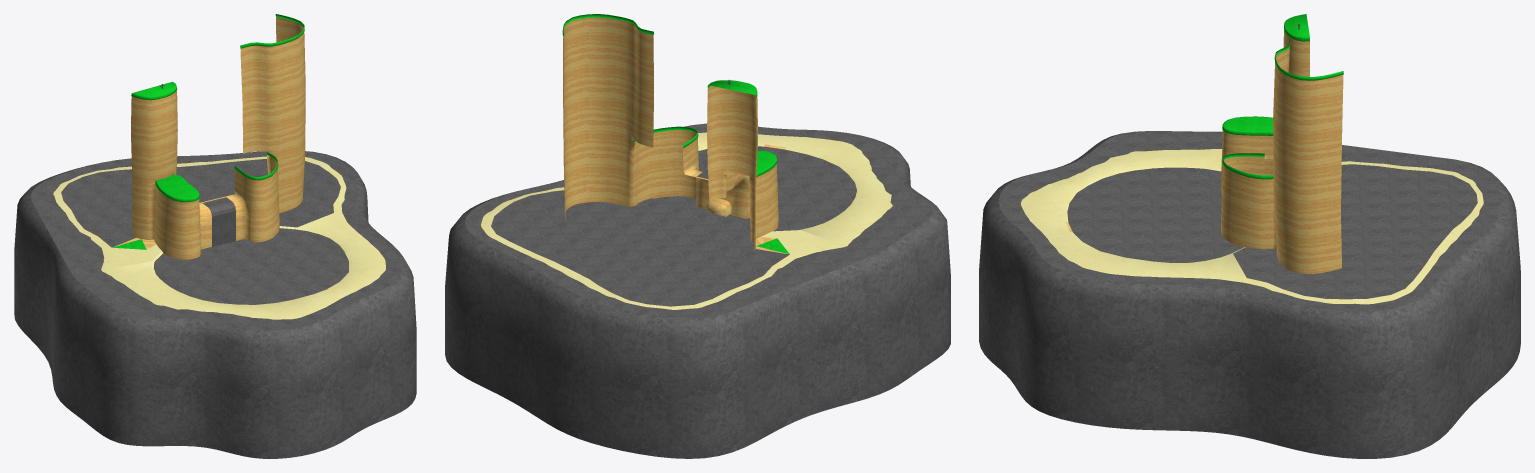
Rendered from MainBeachTest.fbx.
3 renders of one model, left to right at view 1: azimuth 30°, elevation 25°; view 2: azimuth 150°, elevation 25°; view 3: azimuth 270°, elevation 25°, orthographic. The views are drawn at different scales.
Visible parts, largest first — view 1: Plane.012; view 2: Plane.012; view 3: Plane.012.
Part boxes in pixels (x1,y1,x2,y2): Plane.012: [14, 14, 416, 458]; Plane.012: [445, 14, 950, 458]; Plane.012: [979, 14, 1520, 458].
Size of the model in its own units: 1539384 by 1237358 by 1796736.
Materials: 5 (5 with a texture image).
